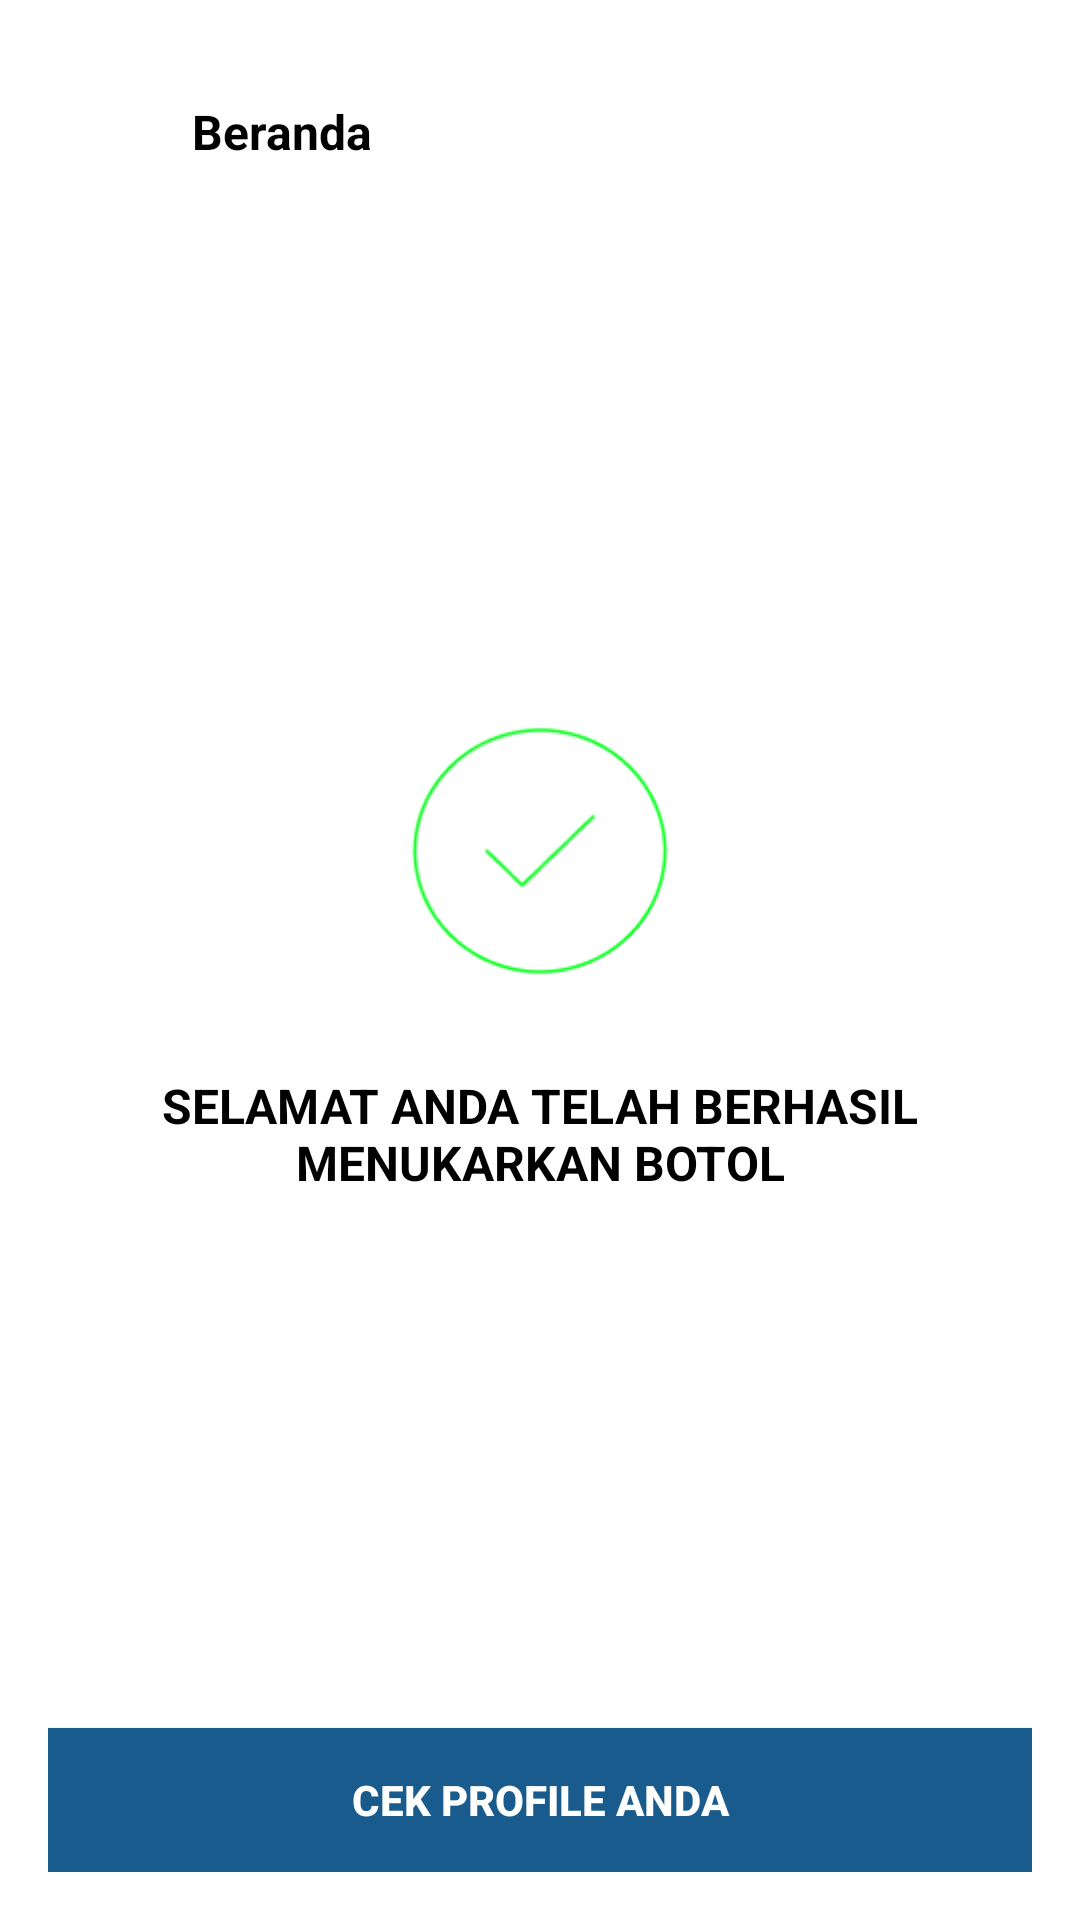

Icons on this 1080w x 1920h Android screen, each with the point to tap as (x=x, y=y):
Success Icon: (x=540, y=851)
